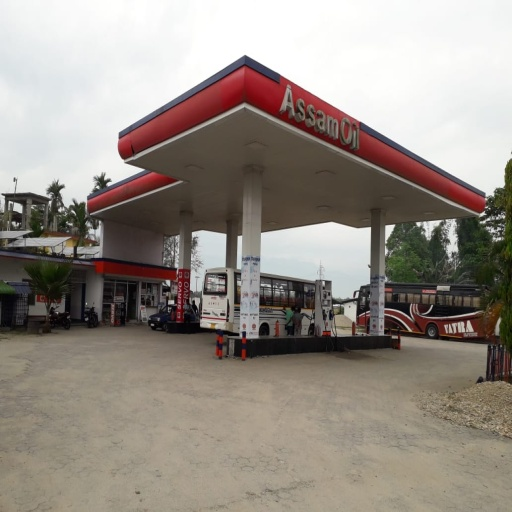roof: (85, 58, 481, 231)
